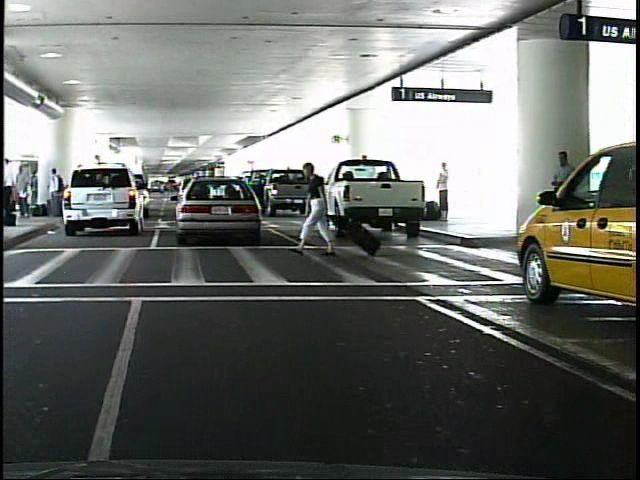person: (301, 159, 342, 256), (545, 148, 580, 257), (431, 158, 456, 222), (46, 164, 63, 222)
